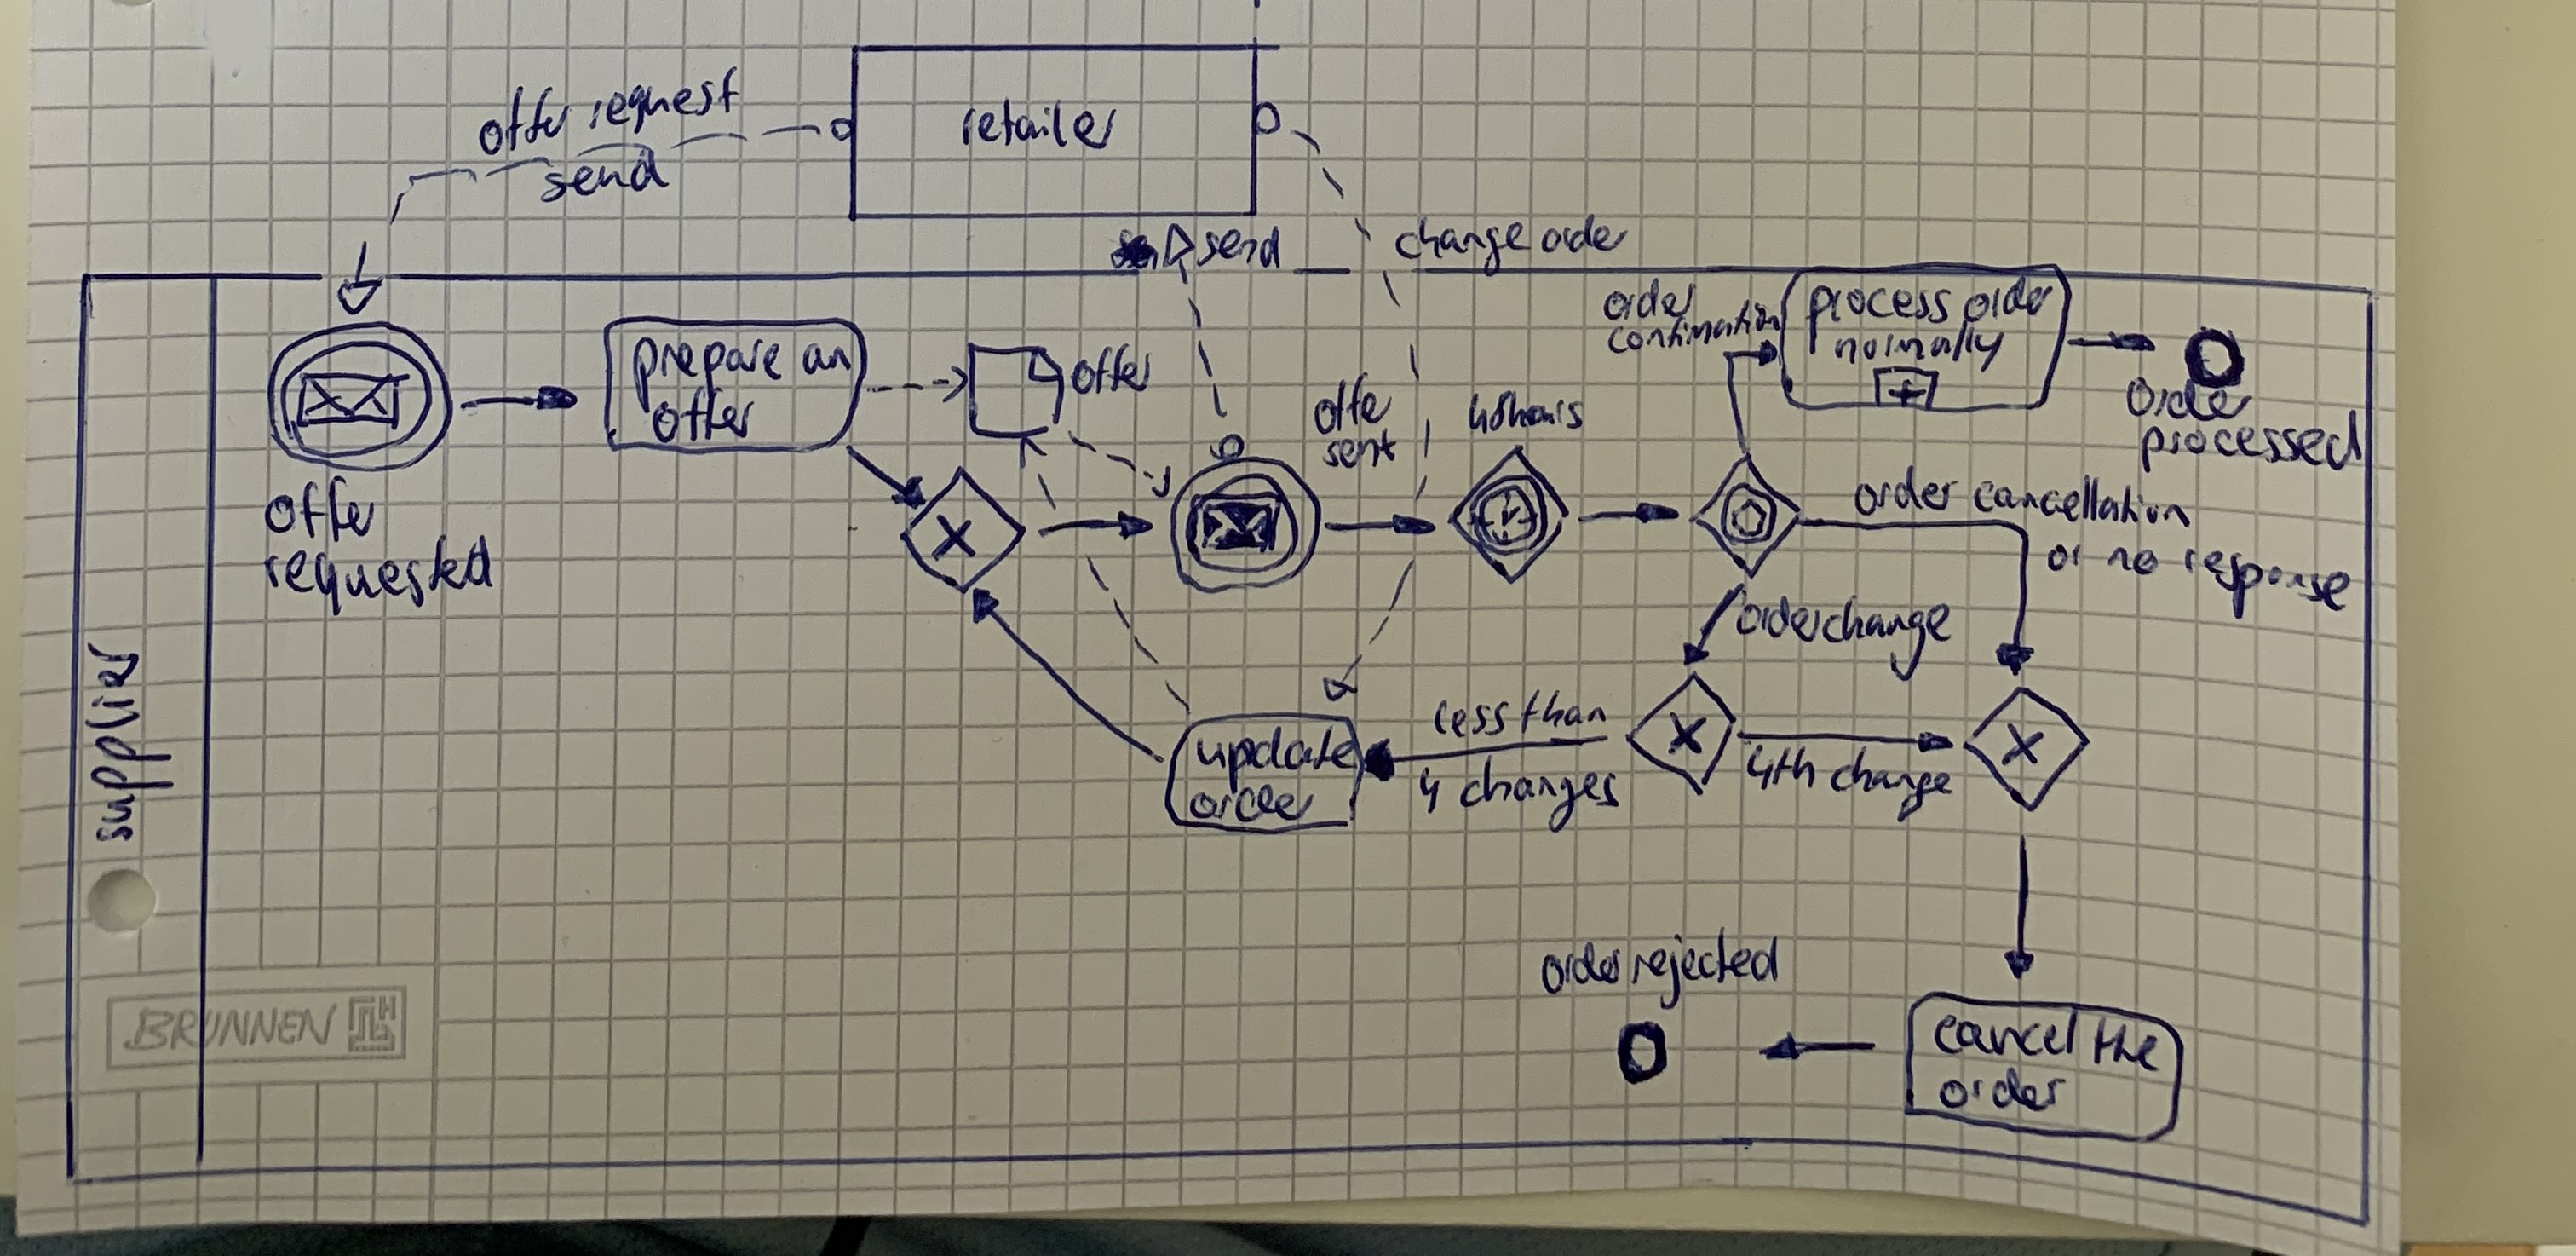4: (1408, 760, 1442, 822)
48: (1464, 380, 1505, 434)
4th: (1746, 738, 1815, 794)
Order: (2127, 375, 2247, 426)
Process: (1810, 278, 1950, 327)
an: (800, 334, 854, 378)
cancel: (1930, 1001, 2073, 1067)
cancellation: (1973, 478, 2192, 529)
change: (1828, 750, 1960, 806), (1824, 595, 1947, 651), (1395, 212, 1529, 263)
changes: (1456, 761, 1626, 815)
confirmation: (1607, 304, 1781, 353)
hours: (1505, 388, 1587, 437)
less: (1428, 692, 1508, 743)
no: (2106, 544, 2157, 577)
normally: (1830, 317, 2004, 368)
offe: (1304, 368, 1400, 437)
offer: (264, 478, 373, 541), (471, 89, 572, 151), (651, 390, 757, 446), (1071, 340, 1153, 403)
or: (2045, 541, 2083, 572)
order: (1943, 1067, 2070, 1113), (1600, 276, 1697, 327), (1193, 784, 1313, 825), (1538, 210, 1631, 260), (1853, 472, 1958, 513), (1543, 942, 1621, 996), (1736, 595, 1824, 641), (1968, 278, 2049, 327)
prepare: (628, 334, 787, 385)
processed: (2141, 418, 2361, 470)
rejected: (1631, 929, 1779, 988)
request: (577, 64, 752, 130)
requested: (261, 529, 498, 608)
response: (2173, 544, 2356, 613)
retailer: (954, 87, 1117, 166)
send: (536, 143, 670, 210), (1186, 215, 1293, 278)
sent: (1319, 431, 1400, 472)
supplier: (82, 641, 149, 850)
than: (1515, 689, 1610, 732)
the: (2080, 1011, 2170, 1077)
update: (1194, 723, 1360, 774)
